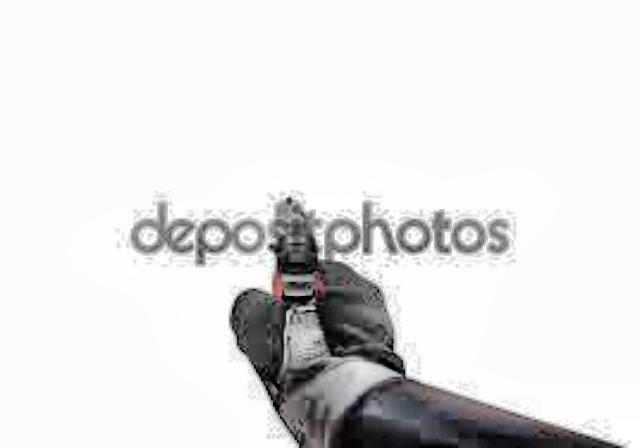pistol: (270, 198, 324, 306)
